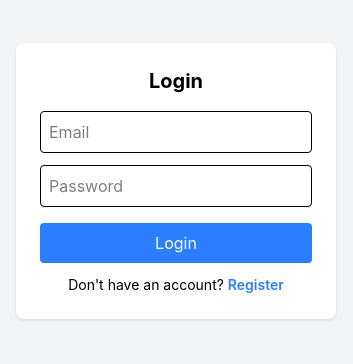
Auth integration › navigates between auth pages using the footer links
Click the link "Register": (256, 284) [228, 276, 284, 293]
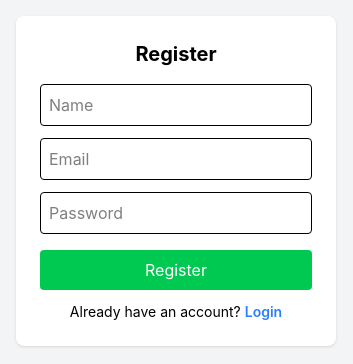
Expected: the heading "Register" is shown, [135, 42, 217, 66]
Click the link "Login": (263, 312) [245, 303, 282, 320]
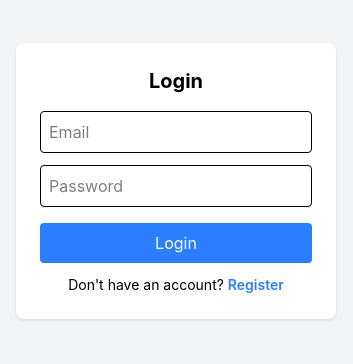
Expected: the heading "Login" is shown, [149, 69, 203, 93]
